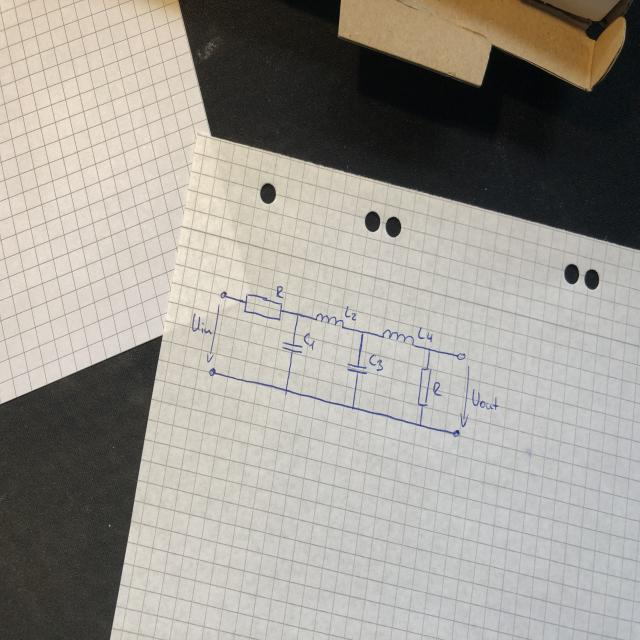capacitor: (281, 340, 304, 356), (346, 361, 368, 376)
inductor: (314, 312, 346, 332), (381, 328, 415, 346)
junction: (294, 311, 301, 319), (350, 403, 356, 412), (418, 420, 424, 429), (284, 386, 289, 396), (360, 329, 366, 336), (426, 347, 432, 354)
resistor: (242, 292, 282, 322), (417, 366, 433, 408)
terminal: (219, 290, 231, 302), (454, 349, 466, 361), (207, 365, 218, 378), (449, 427, 460, 439)
text: (471, 388, 499, 412), (190, 312, 213, 337), (368, 353, 384, 372), (302, 331, 317, 351), (417, 326, 433, 344), (344, 305, 358, 324), (432, 381, 443, 399), (274, 286, 286, 300)
